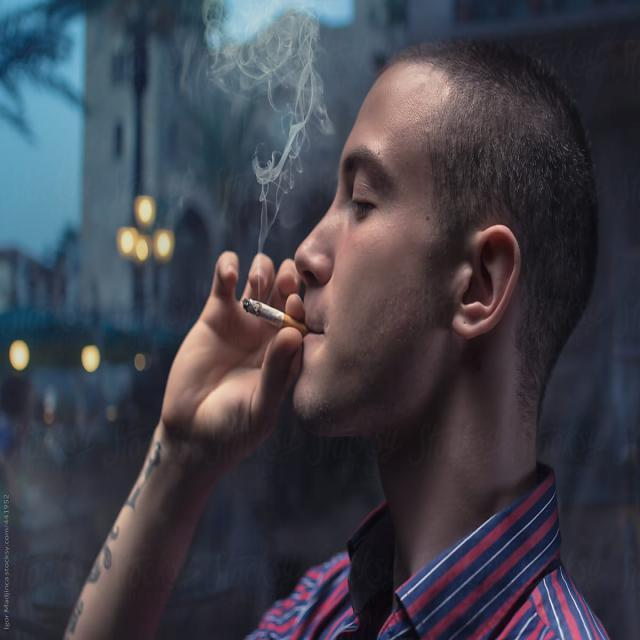smoking: (238, 266, 328, 344)
